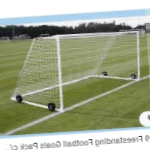goals: (11, 29, 143, 113)
